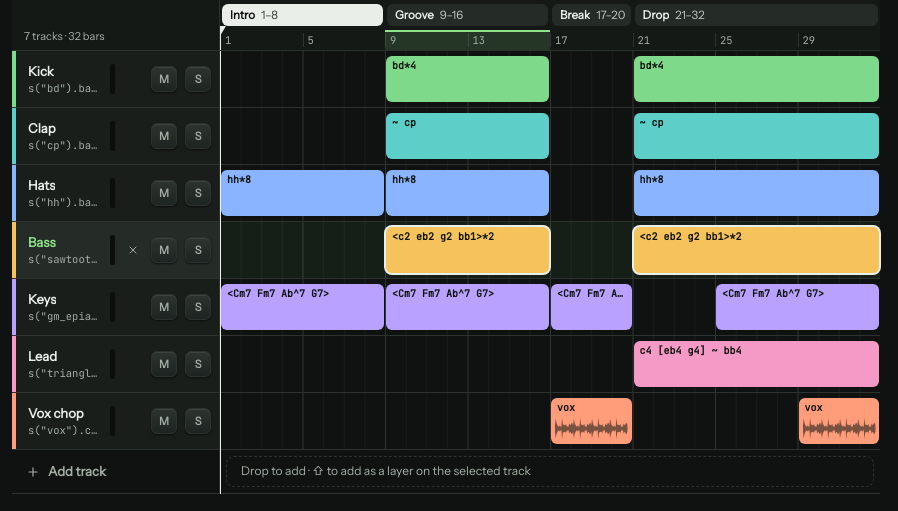
Test: Timeline › should close the Add track menu with Escape and return focus
The width and height of the screenshot is (898, 511).
Click the button "Add track". click: (446, 472)
box: [12,450,880,493]
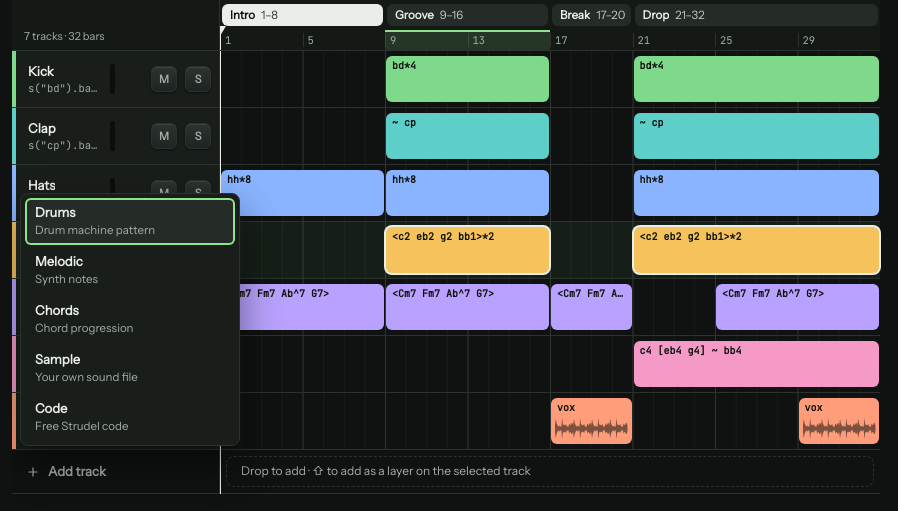
Press Arrowdown Escape
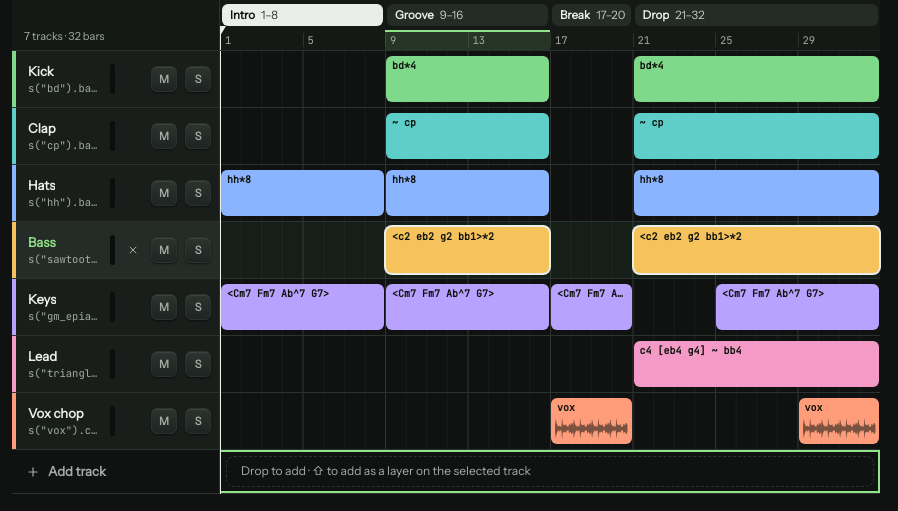
Now the menu is gone
Now the button "Add track" is collapsed, box [12,450,880,493]
